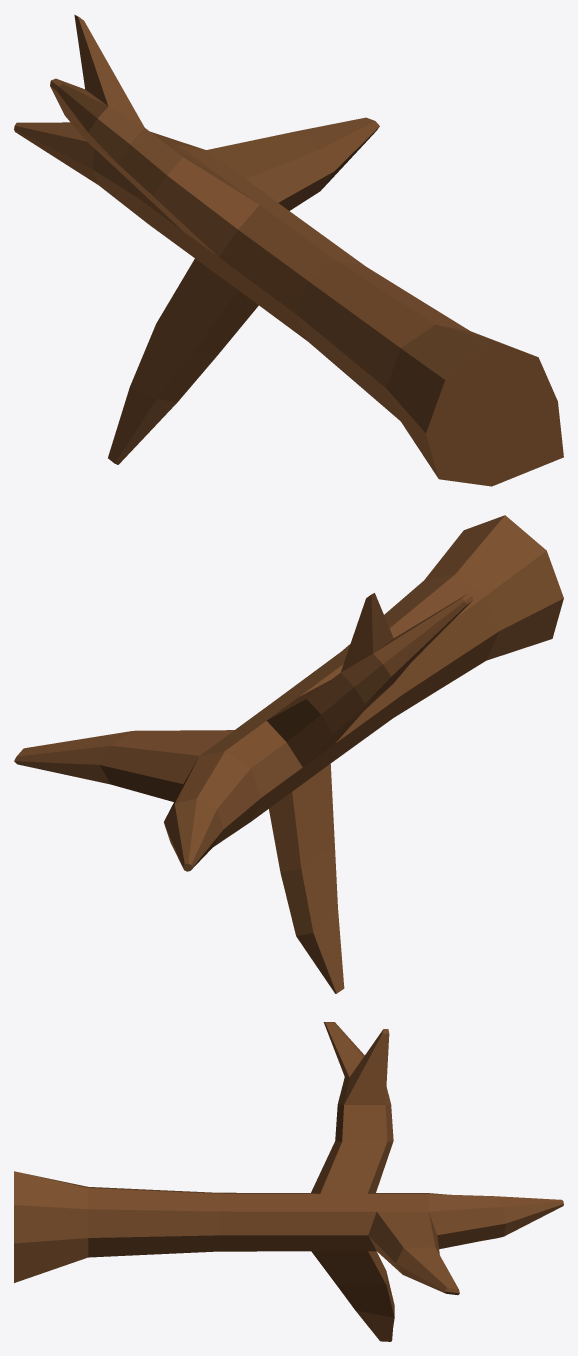
The model's file is tronco001.fbx.
3 views of the same model, one above another, from view 1: azimuth 30°, elevation 25°; view 2: azimuth 150°, elevation 25°; view 3: azimuth 270°, elevation 25° (orthographic). The views are drawn at different scales.
Parts seen in each view (by area): view 1: Tronco; view 2: Tronco; view 3: Tronco.
Boxes of the visible parts, bbox=[...] form: Tronco: bbox=[14, 14, 563, 486]; Tronco: bbox=[14, 515, 563, 993]; Tronco: bbox=[14, 1022, 563, 1341].
Size of the model in its own units: 344 by 361 by 599.
